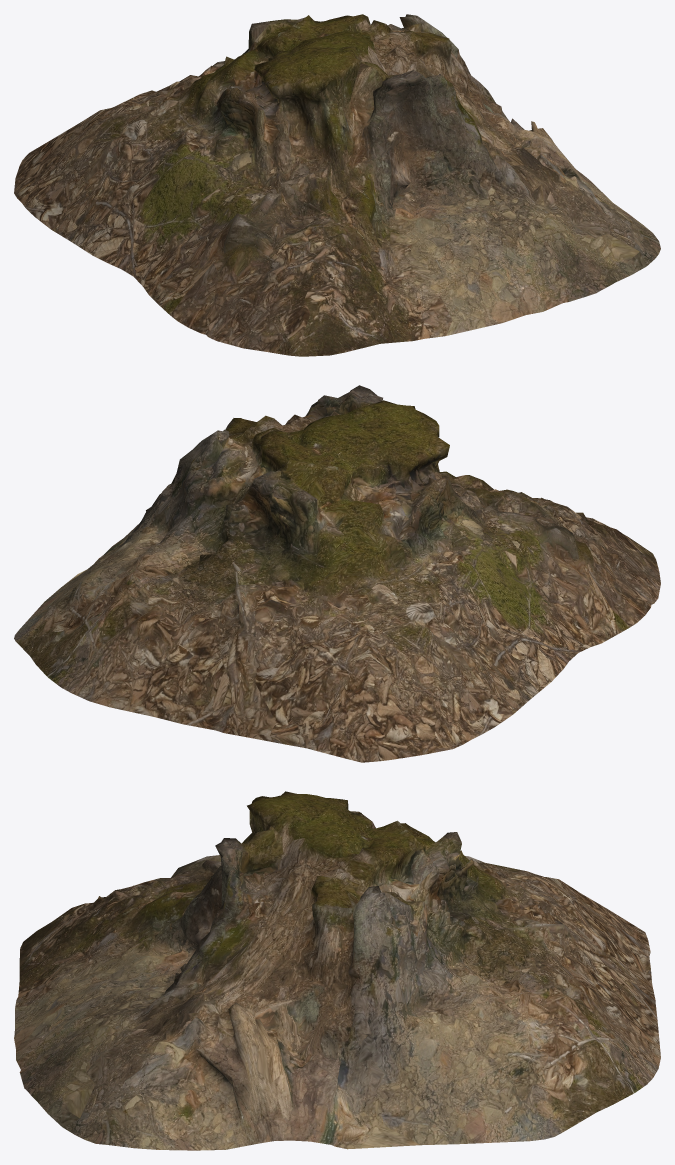
File: Scan_Stump01.fbx
The picture shows the model from 3 angles, top to bottom: view 1: azimuth 30°, elevation 25°; view 2: azimuth 150°, elevation 25°; view 3: azimuth 270°, elevation 25°; orthographic projection. The views are drawn at different scales.
Parts seen in each view (by area): view 1: Scan_Stump01_LOD0; view 2: Scan_Stump01_LOD0; view 3: Scan_Stump01_LOD0.
Boxes of the visible parts, bbox=[...] form: Scan_Stump01_LOD0: bbox=[14, 14, 660, 356]; Scan_Stump01_LOD0: bbox=[14, 385, 660, 762]; Scan_Stump01_LOD0: bbox=[14, 791, 660, 1150].
Size of what is drawn, in the model's own units: 1.42 by 0.5722 by 1.59.
